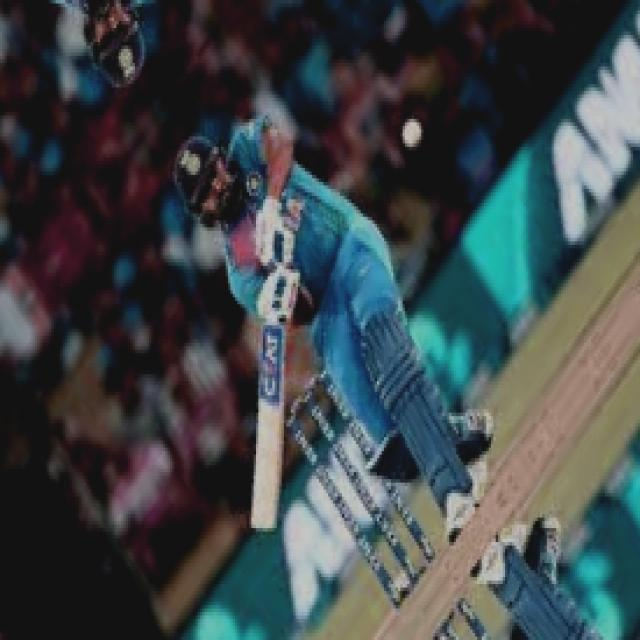toe: (247, 512, 277, 538)
